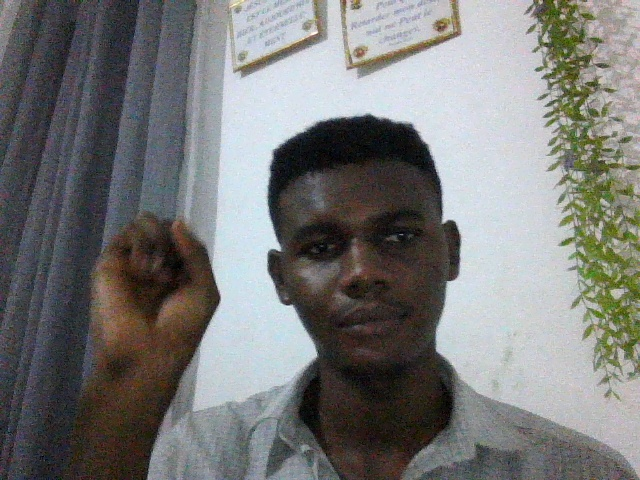hand: (82, 210, 220, 415)
